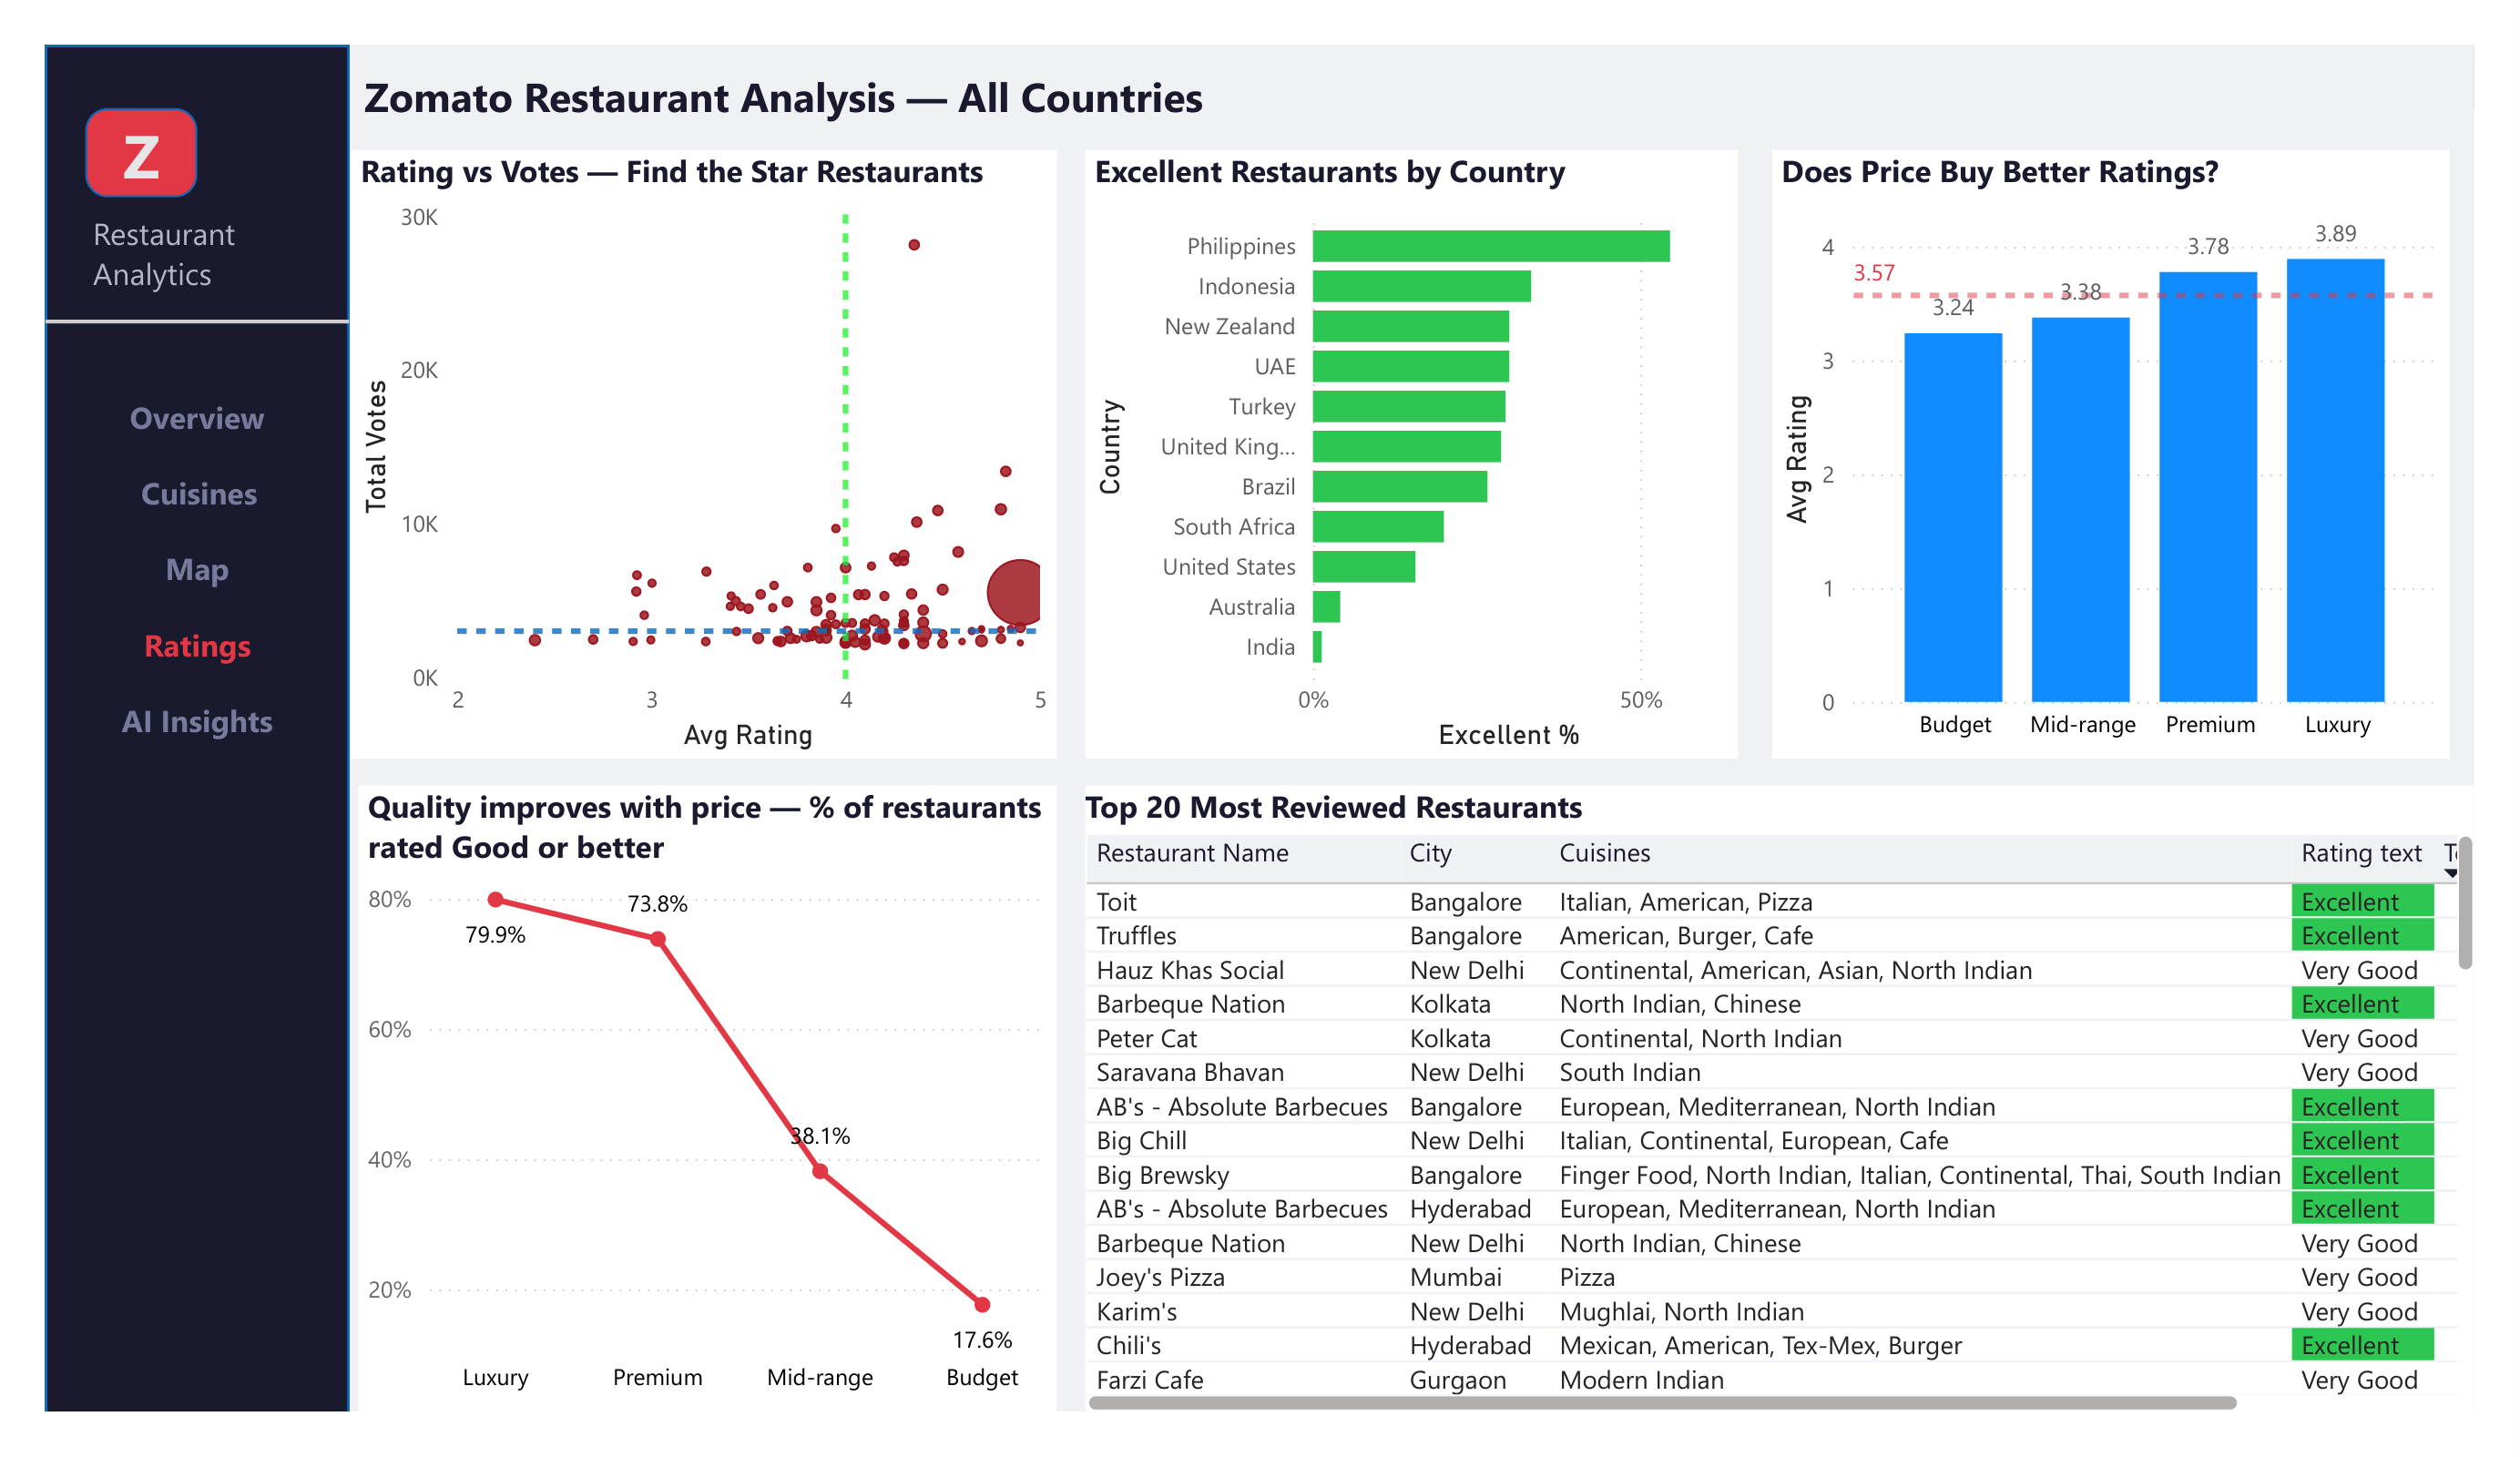

The page's visual inventory and layout, read from the dashboard file:
{"tool":"powerbi","page":{"name":"Ratings","canvas":[1280,720],"ordinal":3},"visuals":[{"type":"shape","box":[0,0,159.8,720.6],"z":0},{"type":"shape","box":[21.4,32.8,58.5,47.1],"z":1000},{"type":"textbox","box":[20,30,61.4,52.8],"z":2000},{"type":"textbox","box":[20,82.8,105.6,74.2],"z":3000},{"type":"actionButton","box":[0,175.5,159.8,40],"z":4000},{"type":"actionButton","box":[1.4,215.5,159.8,40],"z":5000},{"type":"actionButton","box":[0,255.4,159.8,40],"z":6000},{"type":"actionButton","box":[0,295.4,159.8,40],"z":7000},{"type":"actionButton","box":[0,335.3,159.8,40],"z":8000},{"type":"shape","box":[0,134.1,159.8,22.8],"z":9000},{"type":"scatterChart","title":"Rating vs Votes — Find the Star Restaurants","fields":{"X":["_Measures.Avg Rating"],"Y":["_Measures.Total Votes"],"Size":["_Measures.Avg Cost for Two"],"Category":["Restaurants.Restaurant Name"]},"box":[161.3,55.4,372,320.3],"z":10000},{"type":"clusteredColumnChart","title":"Does Price Buy Better Ratings?","fields":{"Category":["Restaurants.Price Label"],"Y":["_Measures.Avg Rating"]},"box":[910.2,55.4,356.4,320.3],"z":11000},{"type":"tableEx","title":"Top 20 Most Reviewed Restaurants","fields":{"Values":["Restaurants.Restaurant Name","Restaurants.City","Restaurants.Cuisines","Restaurants.Rating text","_Measures.Total Votes","Restaurants.Price Label"]},"box":[547.8,390.1,732,329.9],"z":12000},{"type":"card","fields":{"Values":["_Measures.Page Title"]},"box":[160.1,0,457.5,56.6],"z":13000},{"type":"clusteredBarChart","title":"Excellent Restaurants by Country","fields":{"Category":["Country lookup.Country"],"Y":["_Measures.Excellent %"]},"box":[547.8,55.4,344.3,320.3],"z":14000},{"type":"lineChart","title":"Quality improves with price — % of restaurants rated Good or better","fields":{"Category":["Restaurants.Price Label"],"Y":["_Measures.Good or Better %"]},"box":[164.9,390.1,368.4,329.9],"z":15000}]}

Visuals, with their boxes on the page's 1280x720 design canvas (x1, y1, x2, y2). These are canvas units, not pixel positions in the 2520x1457 screenshot, which may show the page scaled, cropped or inside an application window:
shape: (0, 0, 160, 721)
shape: (21, 33, 80, 80)
textbox: (20, 30, 81, 83)
textbox: (20, 83, 126, 157)
actionButton: (0, 176, 160, 216)
actionButton: (1, 216, 161, 256)
actionButton: (0, 255, 160, 295)
actionButton: (0, 295, 160, 335)
actionButton: (0, 335, 160, 375)
shape: (0, 134, 160, 157)
"Rating vs Votes — Find the Star Restaurants" scatterChart: (161, 55, 533, 376)
"Does Price Buy Better Ratings?" clusteredColumnChart: (910, 55, 1267, 376)
"Top 20 Most Reviewed Restaurants" tableEx: (548, 390, 1280, 720)
card - _Measures.Page Title: (160, 0, 618, 57)
"Excellent Restaurants by Country" clusteredBarChart: (548, 55, 892, 376)
"Quality improves with price — % of restaurants rated Good or better" lineChart: (165, 390, 533, 720)
